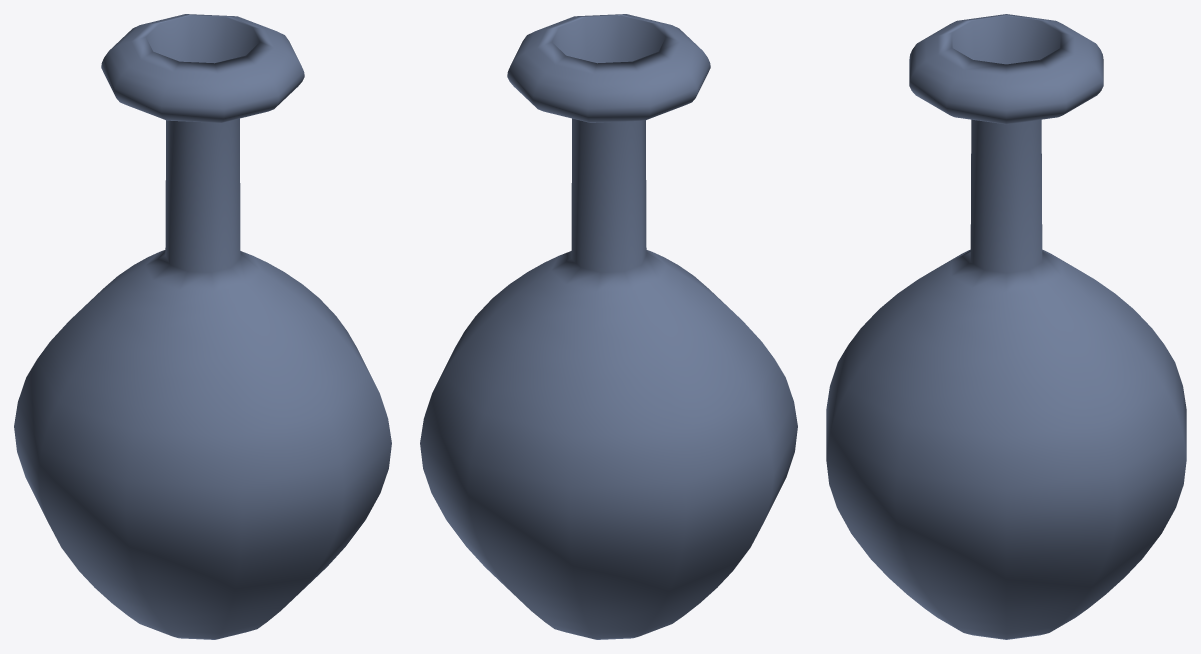
The model's file is Pot_Small_low.fbx.
3 views of the same model, side by side, from view 1: azimuth 30°, elevation 25°; view 2: azimuth 150°, elevation 25°; view 3: azimuth 270°, elevation 25° (orthographic).
Visible parts, largest first — view 1: Pot_low; view 2: Pot_low; view 3: Pot_low.
Boxes of the visible parts, box(x1,y1,x2,y2) form: Pot_low: box(14, 14, 391, 639); Pot_low: box(420, 14, 797, 639); Pot_low: box(826, 14, 1186, 639).
Bounding box in the file's own units: 31.79 × 53.17 × 30.2.
